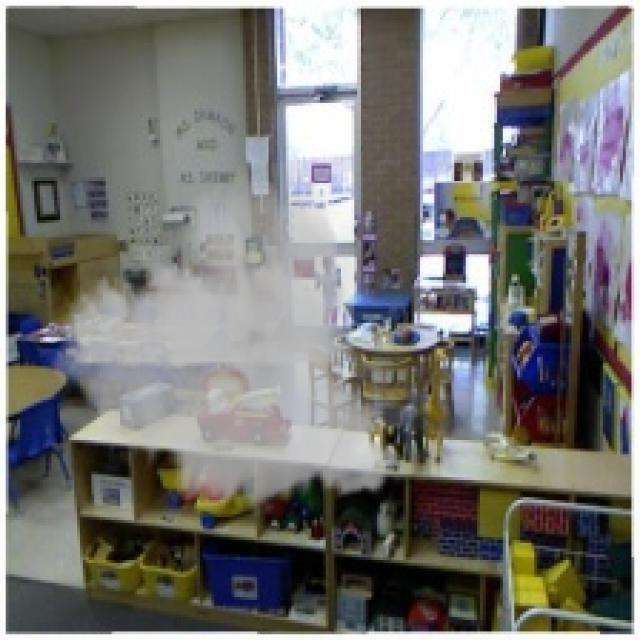smoke: (40, 163, 411, 520)
